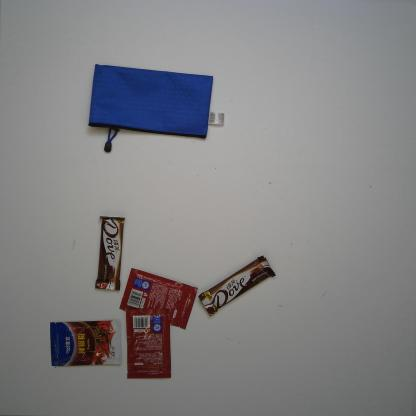Chocolate: (197, 254, 275, 321), (93, 212, 128, 294)
Seasoner: (116, 265, 200, 331), (122, 302, 174, 382), (47, 318, 124, 370)
Stationery: (86, 61, 229, 154)
